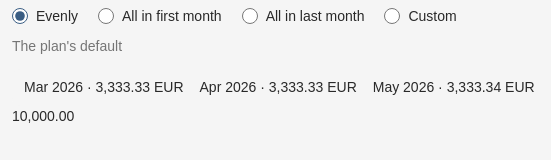
SpreadEditor (US3, FR-017 – FR-021) › previews Evenly, All in first month and All in last month (scenario 1)
This screenshot has width=551, height=160.
Expected: the radio button labelled "Evenly" is checked, [12, 8, 28, 24]
Expected: the list item "Mar 2026 · 3,333.33 EUR" is shown, [24, 77, 184, 98]
Click the radio button labelled "All in first month": [106, 16] box [98, 8, 114, 24]
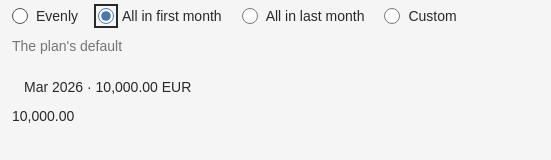
Click the radio button labelled "All in last month": [250, 16] box [242, 8, 258, 24]
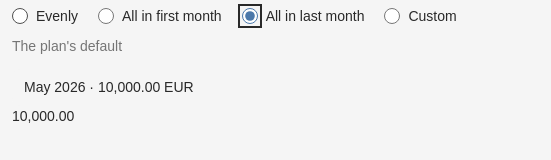
Result: the list item "May 2026 · 10,000.00 EUR" is shown at [24, 77, 194, 98]
